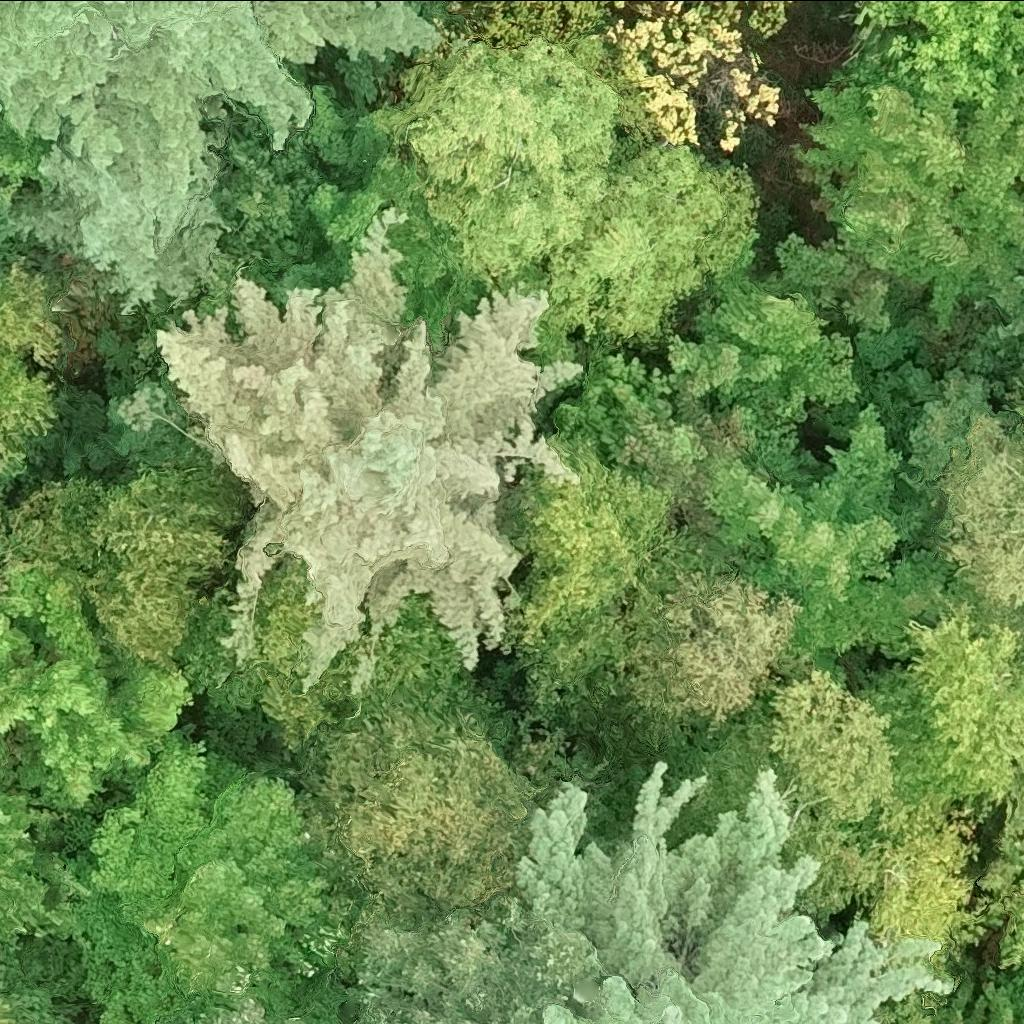crown: (165, 206, 579, 689), (514, 762, 952, 1023), (0, 0, 439, 242), (52, 736, 343, 1023), (611, 387, 897, 654), (318, 592, 548, 924), (794, 45, 1023, 322), (371, 39, 616, 283), (0, 504, 187, 806), (525, 143, 761, 360), (504, 427, 691, 700), (6, 465, 239, 664), (0, 125, 229, 302), (167, 547, 357, 745), (616, 570, 800, 733), (351, 891, 576, 1023), (668, 268, 856, 418), (905, 603, 1023, 815), (614, 0, 781, 149), (766, 672, 896, 822), (868, 801, 982, 953), (854, 0, 1023, 95), (944, 413, 1023, 603), (553, 349, 683, 464), (0, 779, 80, 952), (0, 270, 59, 472), (0, 952, 71, 1023), (0, 119, 69, 179), (1001, 886, 1023, 971), (752, 0, 796, 33), (187, 1004, 263, 1023), (0, 1012, 25, 1023), (616, 0, 631, 5), (282, 1020, 295, 1023)
